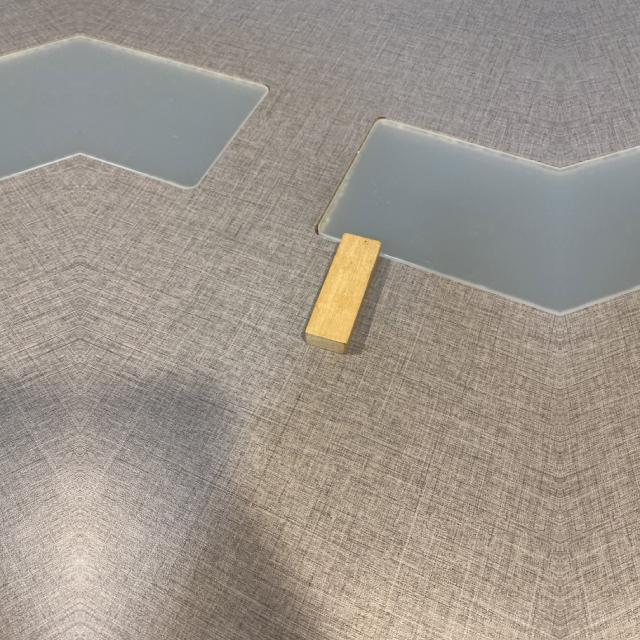jenga: (304, 234, 381, 354)
